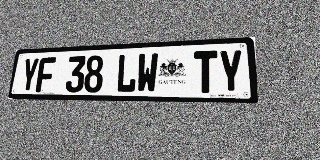3: (65, 56, 86, 92)
8: (83, 55, 105, 92)
F: (35, 57, 56, 92)
L: (115, 54, 137, 93)
T: (194, 50, 218, 93)
W: (136, 53, 158, 93)
Y: (218, 49, 244, 93), (19, 58, 40, 92)
